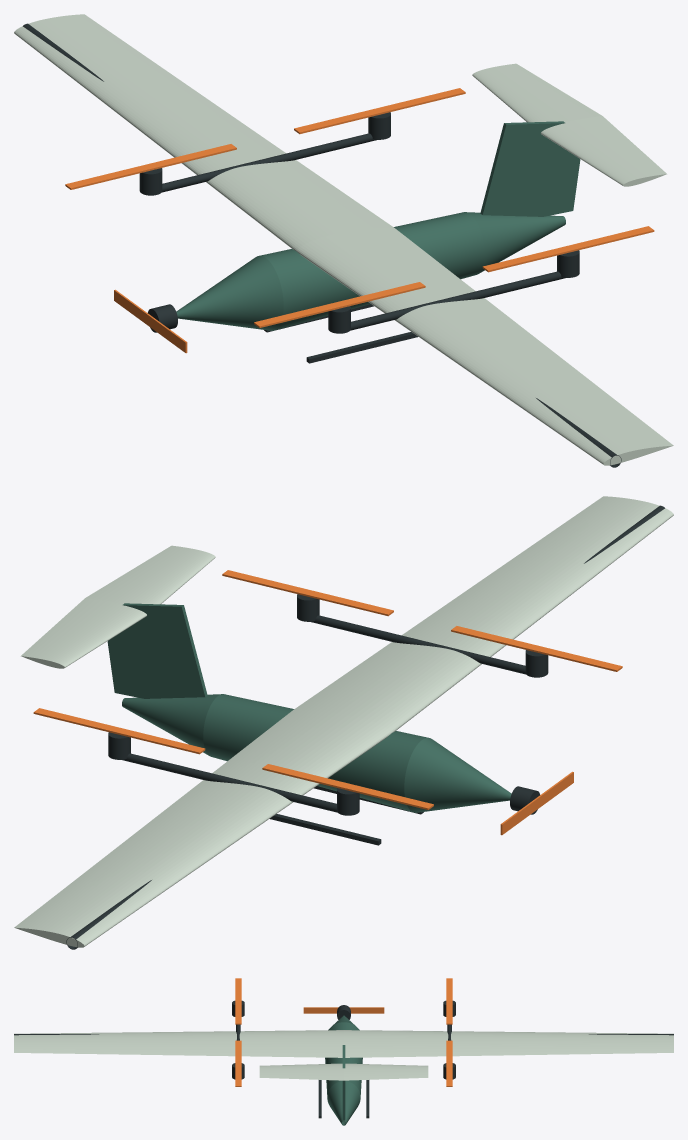
3 views of the same model, one above another, from view 1: azimuth 30°, elevation 25°; view 2: azimuth 150°, elevation 25°; view 3: azimuth 270°, elevation 25° (orthographic). The views are drawn at different scales.
Parts seen in each view (by area): view 1: wing-1, wing1, fuselage, fin, tail-1, tail1, boom-1, boom1, prop_-1_740.0, prop_1_740.0, prop_-1_180.0, prop_1_180.0 (+3 smaller); view 2: wing1, wing-1, fuselage, fin, tail1, tail-1, boom1, boom-1, prop_1_740.0, prop_-1_740.0, prop_-1_180.0, prop_1_180.0 (+3 smaller); view 3: wing-1, wing1, fuselage, tail-1, tail1, cruise_prop, prop_-1_180.0, prop_-1_740.0, prop_1_180.0, prop_1_740.0, fin.
Boxes of the visible parts, left/top/right/bottom form: wing-1: left=296, top=228, right=673, bottom=465; wing1: left=14, top=14, right=393, bottom=251; fuselage: left=176, top=212, right=565, bottom=330; fin: left=480, top=121, right=580, bottom=216; tail-1: left=541, top=116, right=666, bottom=186; tail1: left=472, top=63, right=601, bottom=122; boom-1: left=350, top=271, right=565, bottom=330; boom1: left=162, top=133, right=377, bottom=192; prop_-1_740.0: left=482, top=226, right=654, bottom=272; prop_1_740.0: left=294, top=88, right=465, bottom=134; prop_-1_180.0: left=254, top=282, right=425, bottom=327; prop_1_180.0: left=65, top=144, right=236, bottom=189; wing1: left=14, top=710, right=391, bottom=947; wing-1: left=294, top=496, right=673, bottom=733; fuselage: left=122, top=694, right=511, bottom=812; fin: left=107, top=603, right=207, bottom=698; tail1: left=21, top=598, right=146, bottom=668; tail-1: left=86, top=545, right=215, bottom=604; boom1: left=122, top=753, right=337, bottom=812; boom-1: left=310, top=615, right=525, bottom=674; prop_1_740.0: left=33, top=708, right=205, bottom=754; prop_-1_740.0: left=222, top=570, right=393, bottom=616; prop_-1_180.0: left=451, top=626, right=622, bottom=671; prop_1_180.0: left=262, top=764, right=433, bottom=809; wing-1: left=14, top=1030, right=343, bottom=1057; wing1: left=344, top=1030, right=673, bottom=1057; fuselage: left=325, top=1015, right=362, bottom=1125; tail-1: left=259, top=1063, right=343, bottom=1080; tail1: left=344, top=1063, right=428, bottom=1080; cruise_prop: left=303, top=1007, right=384, bottom=1013; prop_-1_180.0: left=235, top=978, right=241, bottom=1024; prop_-1_740.0: left=235, top=1040, right=241, bottom=1086; prop_1_180.0: left=446, top=978, right=452, bottom=1024; prop_1_740.0: left=446, top=1040, right=452, bottom=1086; fin: left=342, top=1045, right=345, bottom=1120.
Size of the model in its own units: 1109 by 398 by 2500.
